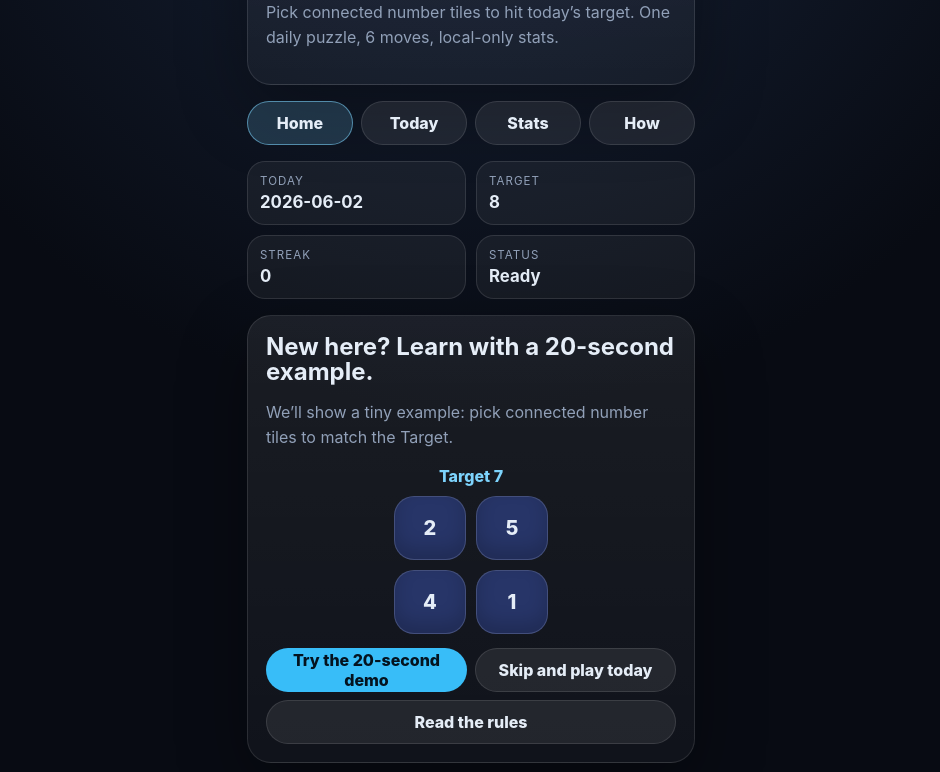
Test: App onboarding and language behavior › teaches the rule through the 2 + 5 = 7 demo before starting the real puzzle
(page scrolled)
Click the button "Try the 20-second demo" at (366, 670), box [266,648,467,692]
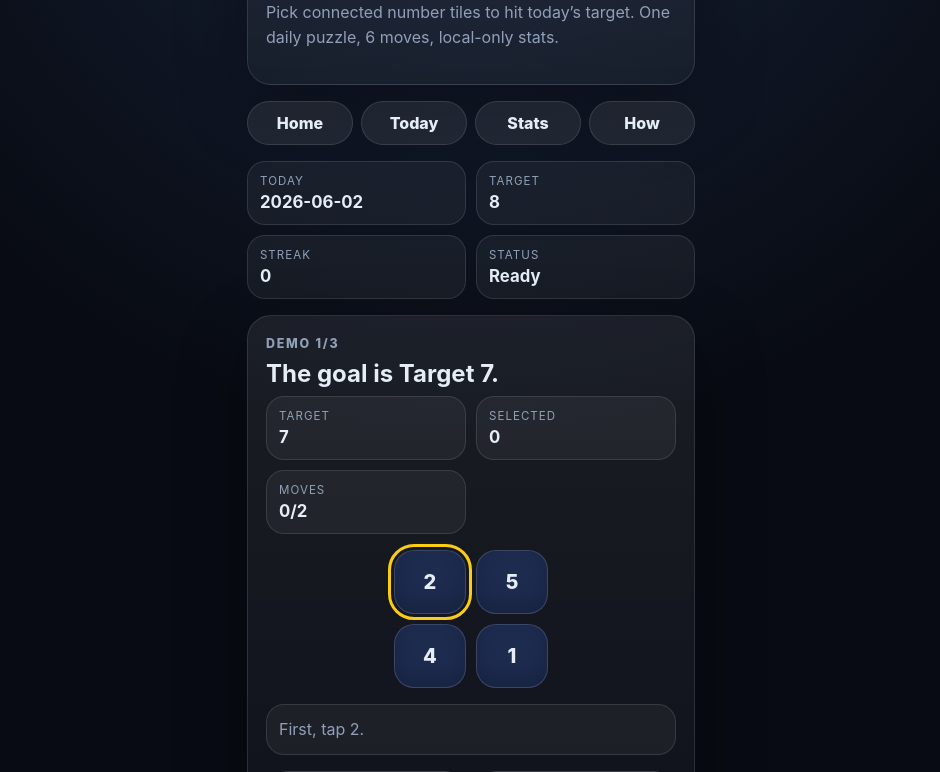
Now the heading "The goal is Target 7." is shown, box [266,359,499,388]
Click the cell named "tile 2" at (430, 582), box [394,550,466,614]
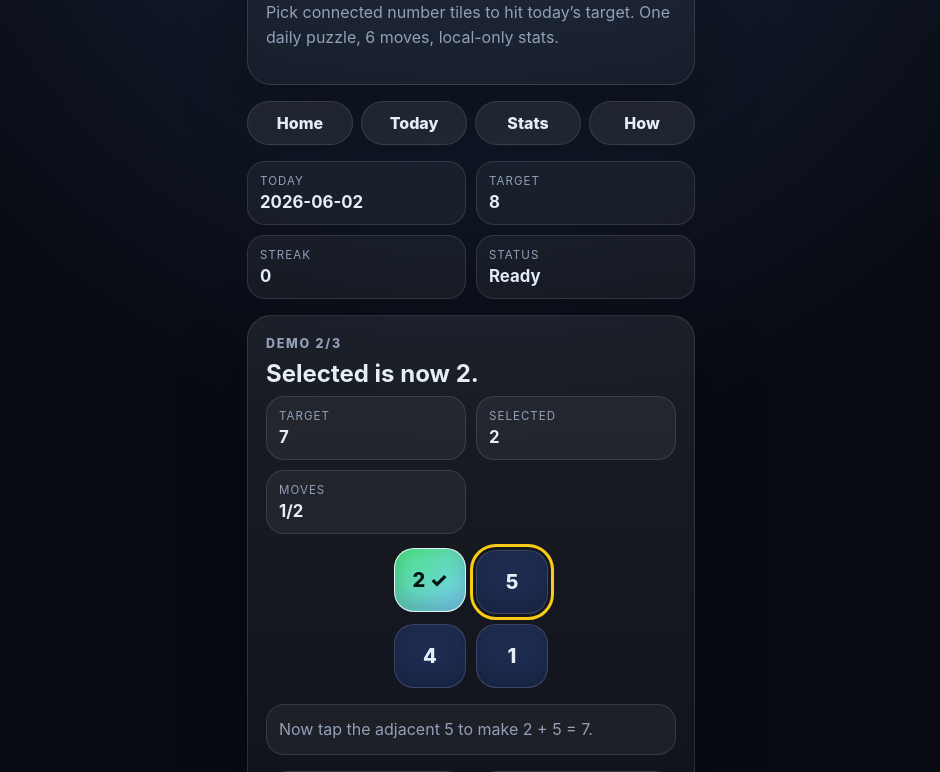
Now the heading "Selected is now 2." is shown, box [266,359,479,388]
Click the cell named "tile 5" at (512, 582), box [476,550,548,614]
(page scrolled)
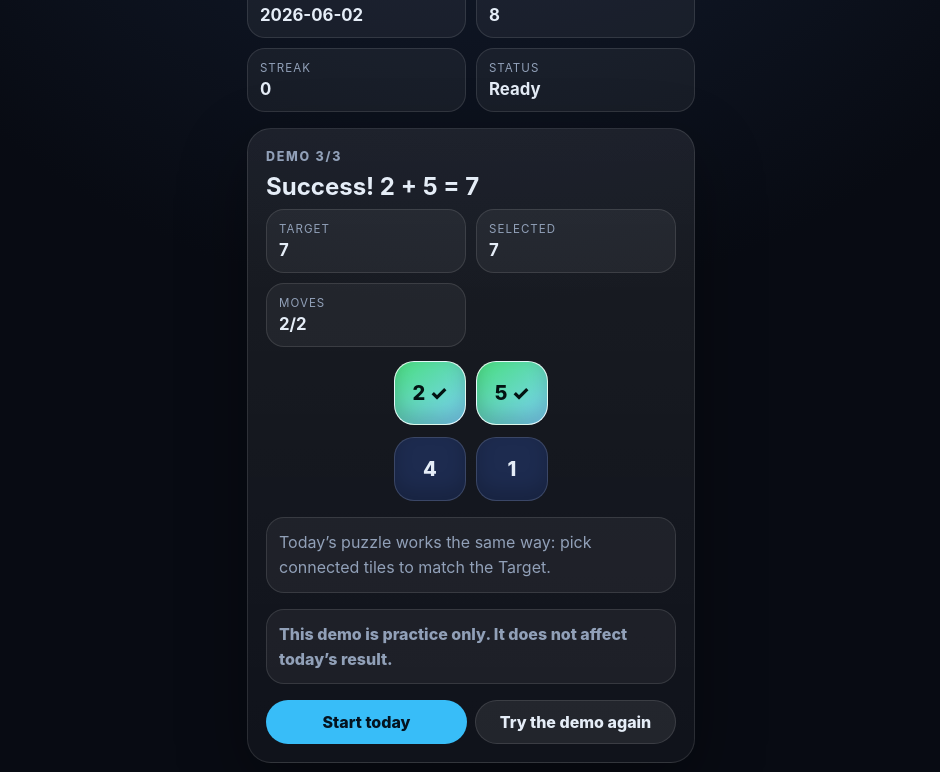
Now the heading "Success! 2 + 5 = 7" is shown, box [266,172,479,201]
Click the button "Start today" at (366, 722), box [266,700,467,744]
(page scrolled)
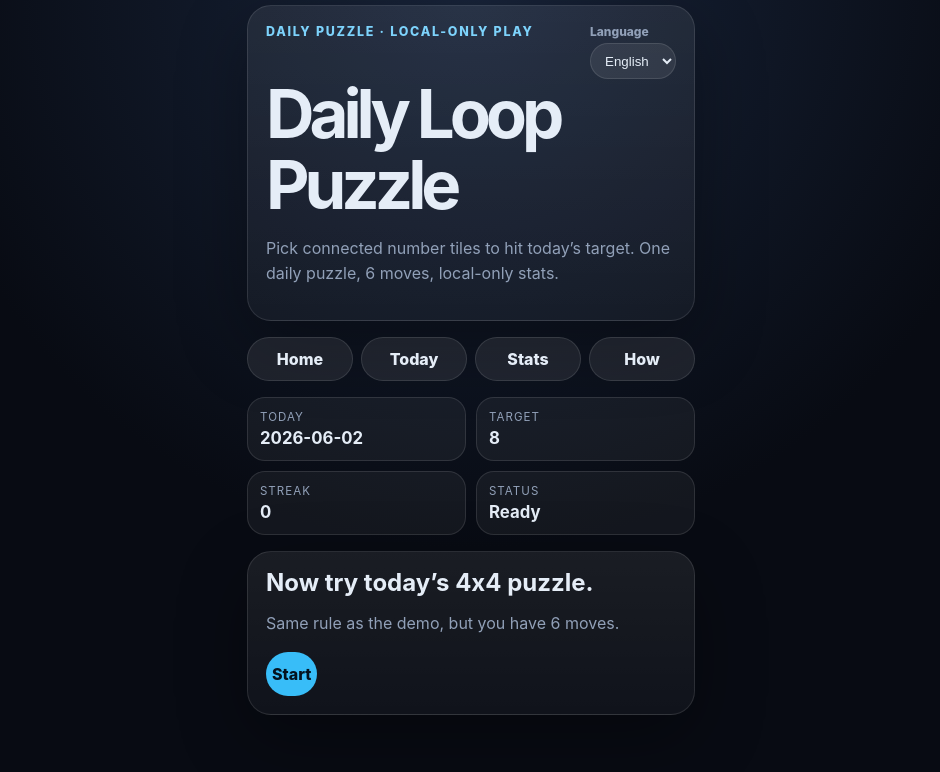
Now the heading "Now try today’s 4x4 puzzle." is shown, box [266,568,594,597]
Click the button "Start" at (292, 674), box [266,652,317,696]
(page scrolled)
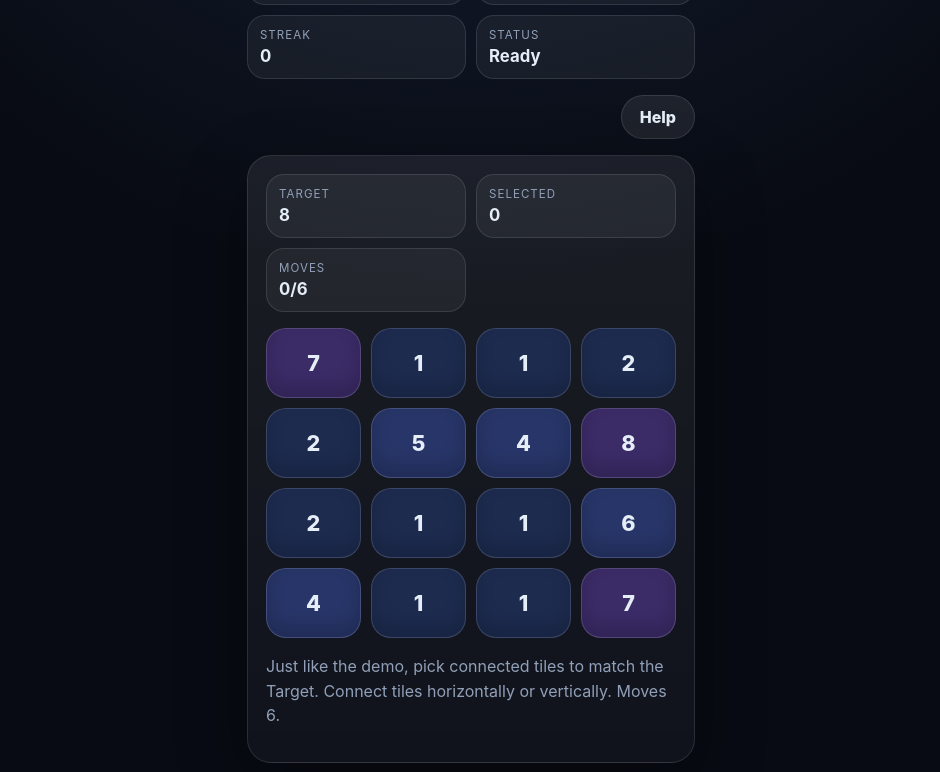
Now the table named "4 by 4 number puzzle" is shown, box [266,328,676,638]
